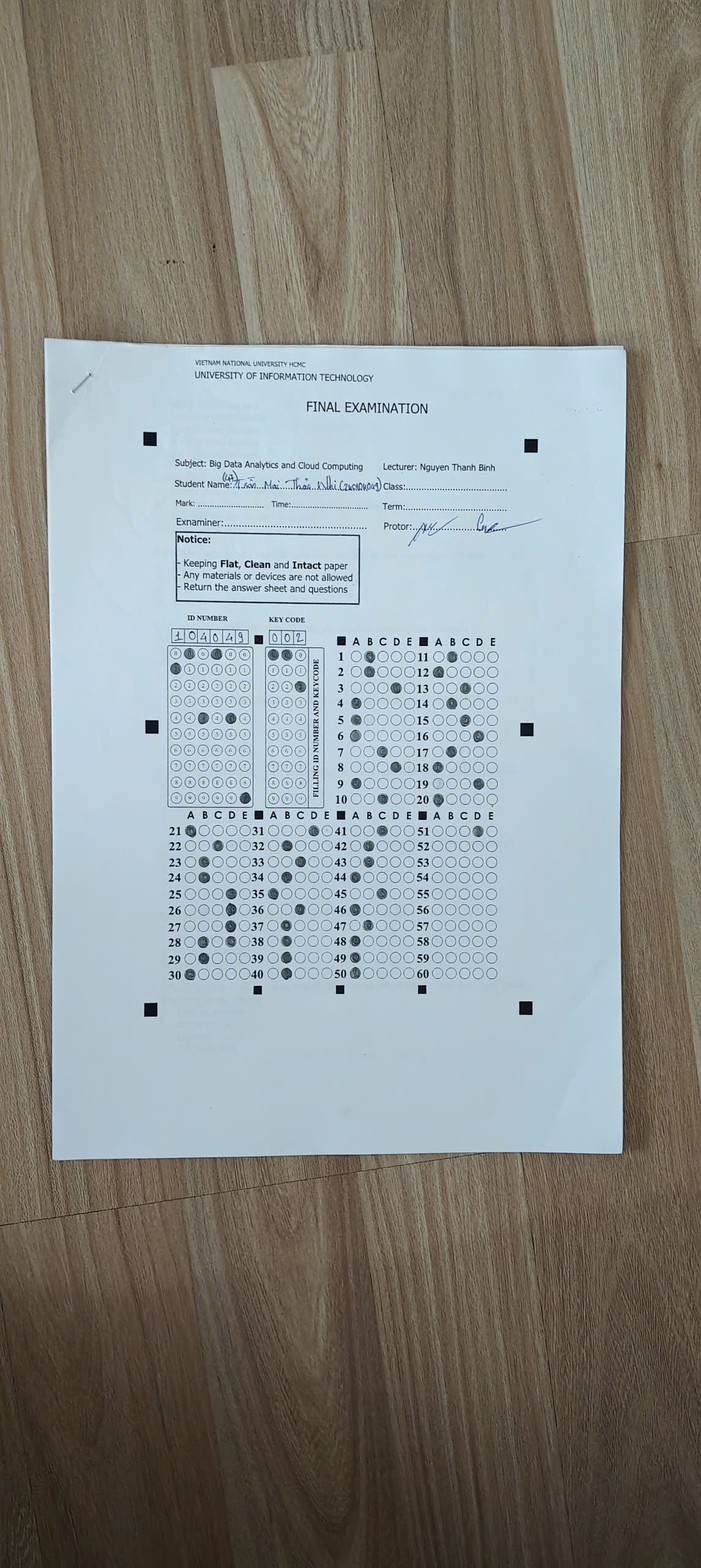info_region: (167, 645, 309, 808)
paper_region: (149, 444, 529, 1009)
q_1_20: (341, 641, 501, 815)
q_21_60: (166, 815, 501, 990)
